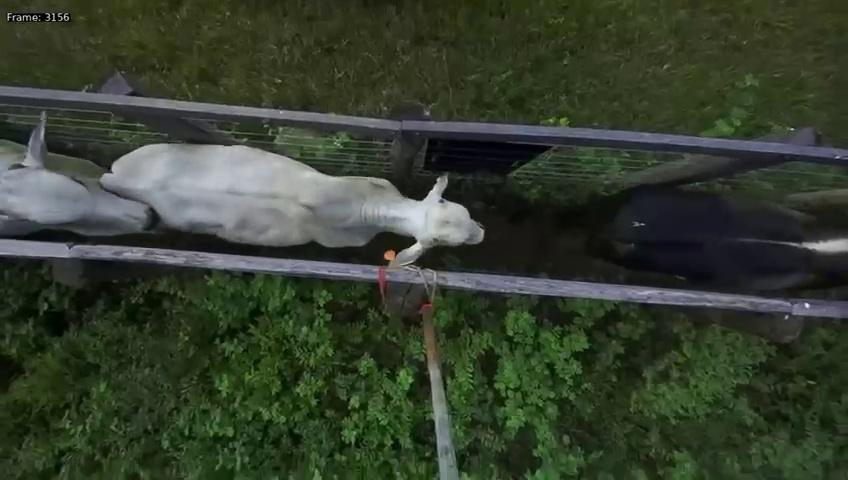cattle: (95, 137, 486, 268)
